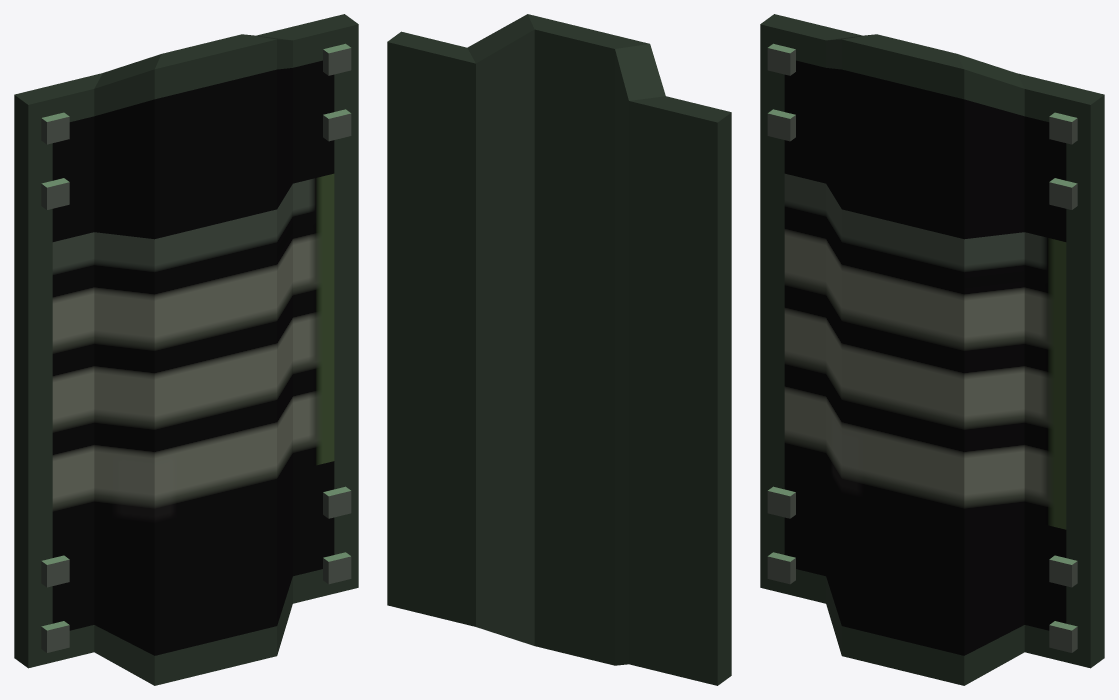
Rendered from SF_Wep_TowerShield_07.glb.
The picture shows the model from 3 angles, left to right: view 1: azimuth 30°, elevation 25°; view 2: azimuth 150°, elevation 25°; view 3: azimuth 330°, elevation 25°; orthographic projection.
Parts seen in each view (by area): view 1: SF_Wep_TowerShield_07; view 2: SF_Wep_TowerShield_07; view 3: SF_Wep_TowerShield_07.
Boxes of the visible parts, left/top/right/bottom form: SF_Wep_TowerShield_07: left=14, top=14, right=358, bottom=685; SF_Wep_TowerShield_07: left=387, top=14, right=731, bottom=685; SF_Wep_TowerShield_07: left=760, top=14, right=1104, bottom=685.
Bounding box in the file's own units: 0.0133 × 0.0237 × 0.00254.
1 material, 1 textured.
